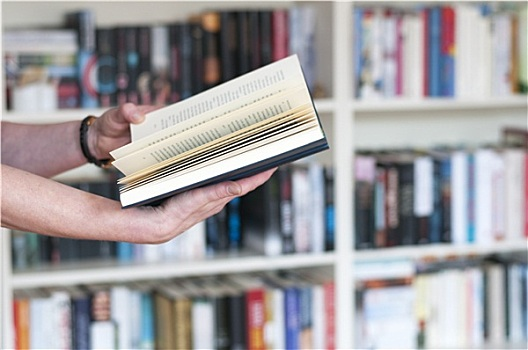book: (105, 54, 331, 208)
